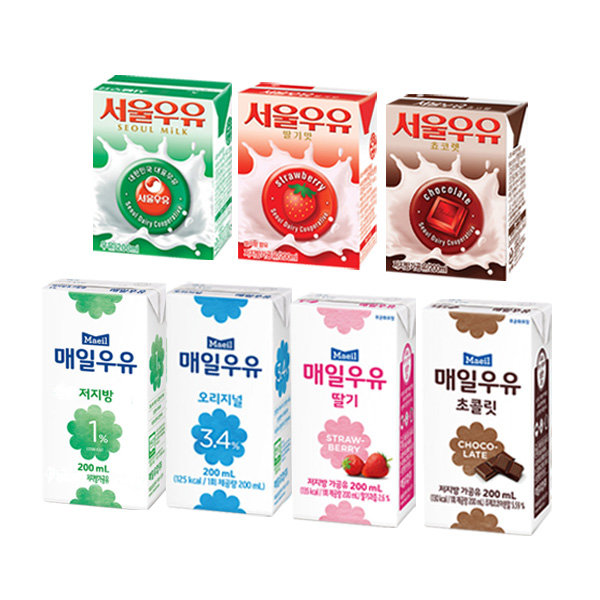milk: (45, 275, 553, 535), (89, 68, 529, 281)
